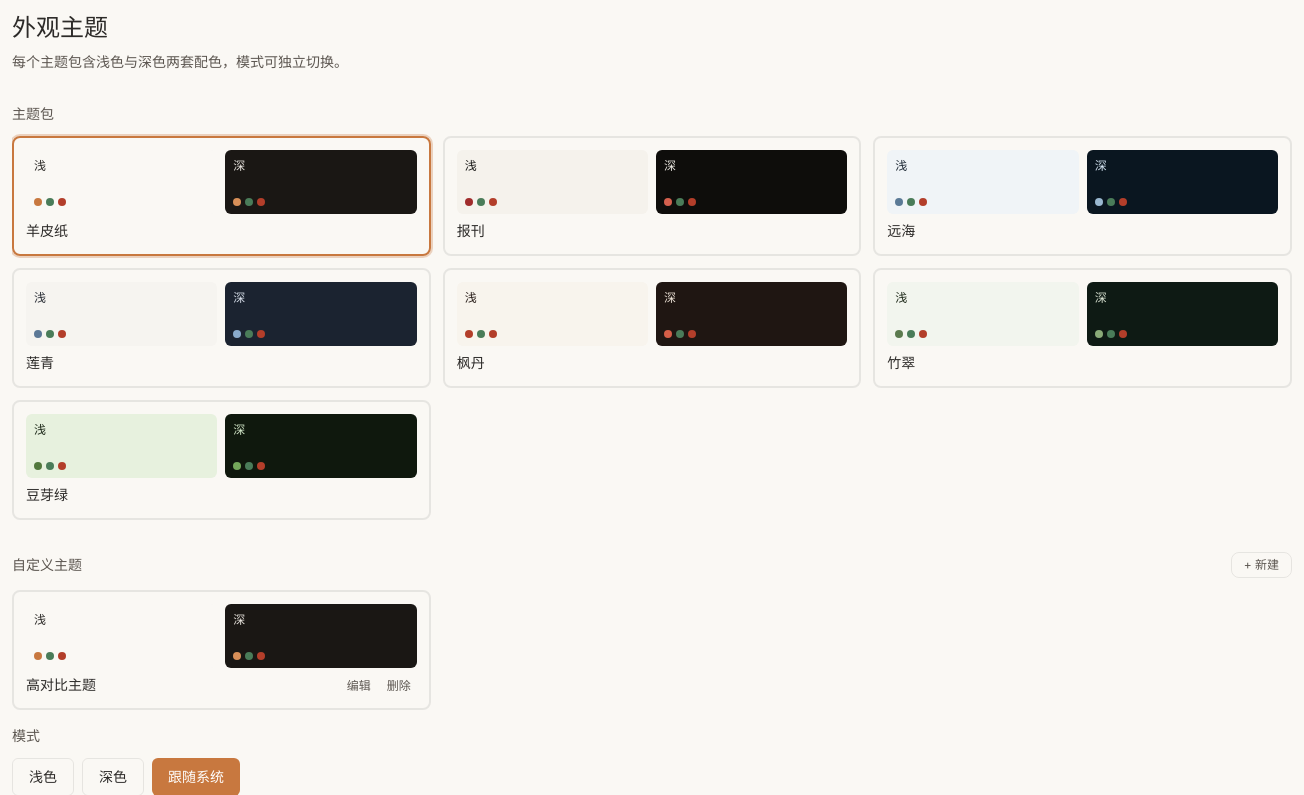
Test: ThemePicker › announces custom theme delete failures without removing the theme card
Step 1. Click the button with aria-label "删除主题：高对比主题" → [399, 686], box [381,676,417,696]
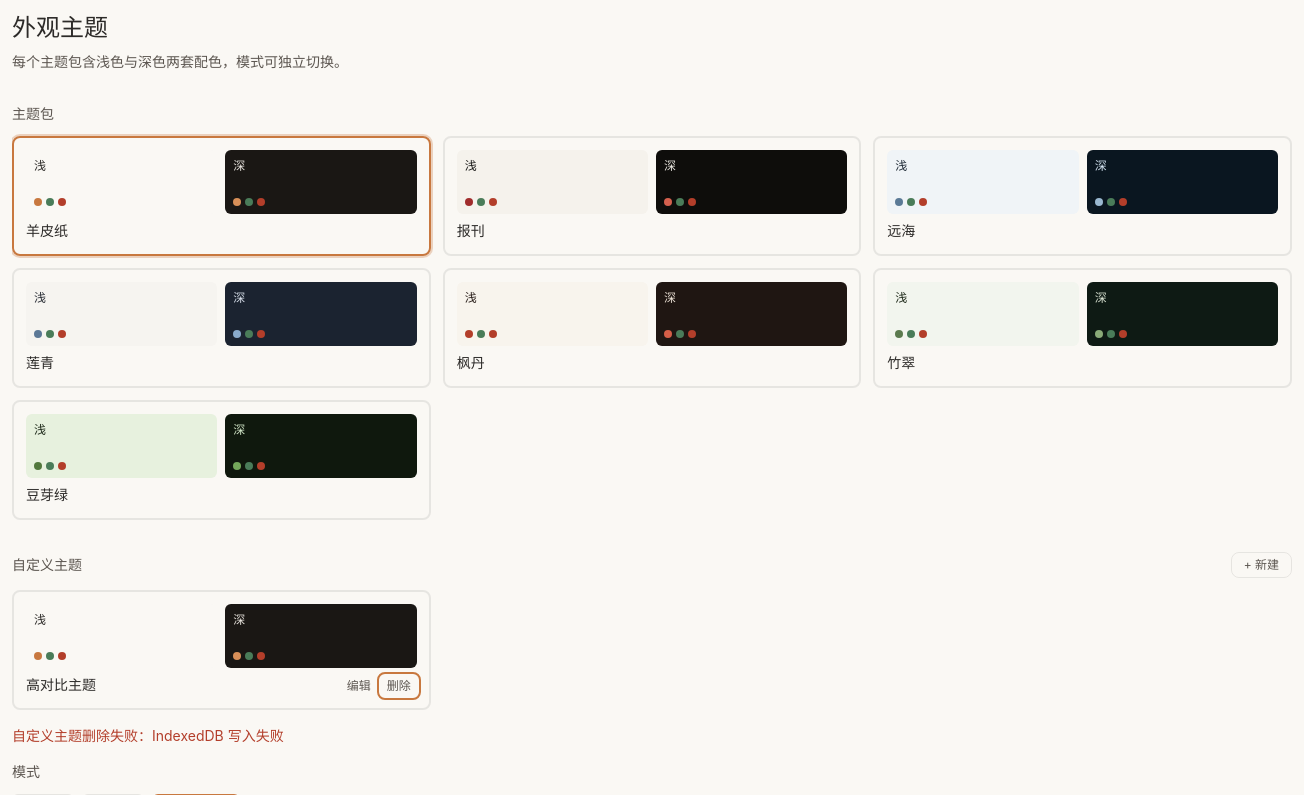
Expected: the text "高对比主题" is shown, [26,676,96,696]
Result: the message reads "自定义主题删除失败：IndexedDB 写入失败" at [12,727,284,744]
